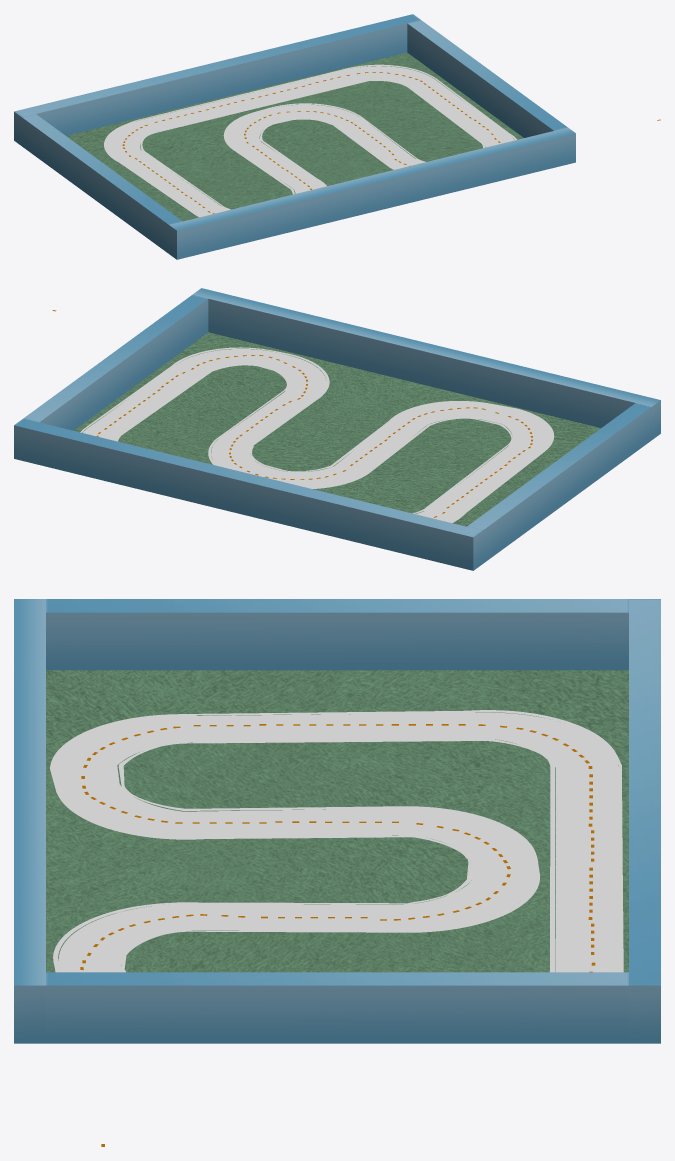
File: hard_loopy_track.dae
3 views of the same model, one above another, from view 1: azimuth 30°, elevation 25°; view 2: azimuth 150°, elevation 25°; view 3: azimuth 270°, elevation 25° (orthographic). The views are drawn at different scales.
Parts seen in each view (by area): view 1: field, Plane_002, bottomWall, topWall, leftWall, rightWall, Plane_003, dottedLine_001; view 2: field, topWall, bottomWall, Plane_002, leftWall, rightWall, Plane_003, dottedLine_001; view 3: field, Plane_002, leftWall, rightWall, bottomWall, topWall, Plane_003, dottedLine_001.
Boxes of the visible parts, x1=… form: field: x1=66, y1=52, x2=523, y2=221; Plane_002: x1=106, y1=66, x2=514, y2=216; bottomWall: x1=169, y1=127, x2=575, y2=259; topWall: x1=14, y1=14, x2=420, y2=145; leftWall: x1=22, y1=114, x2=182, y2=253; rightWall: x1=407, y1=20, x2=567, y2=137; Plane_003: x1=104, y1=64, x2=517, y2=217; dottedLine_001: x1=122, y1=72, x2=660, y2=213; field: x1=74, y1=332, x2=600, y2=526; topWall: x1=14, y1=418, x2=482, y2=570; bottomWall: x1=192, y1=288, x2=660, y2=439; Plane_002: x1=83, y1=349, x2=551, y2=522; leftWall: x1=467, y1=403, x2=651, y2=563; rightWall: x1=23, y1=295, x2=208, y2=430; Plane_003: x1=80, y1=347, x2=554, y2=522; dottedLine_001: x1=52, y1=310, x2=532, y2=517; field: x1=46, y1=670, x2=628, y2=972; Plane_002: x1=55, y1=712, x2=618, y2=972; leftWall: x1=46, y1=599, x2=628, y2=670; rightWall: x1=46, y1=972, x2=628, y2=1043; bottomWall: x1=14, y1=599, x2=45, y2=1043; topWall: x1=629, y1=599, x2=660, y2=1043; Plane_003: x1=50, y1=710, x2=623, y2=972; dottedLine_001: x1=80, y1=724, x2=595, y2=1146.
Size of the model in its own units: 9.09 by 5.07 by 0.5.
5 materials, 3 textured.
